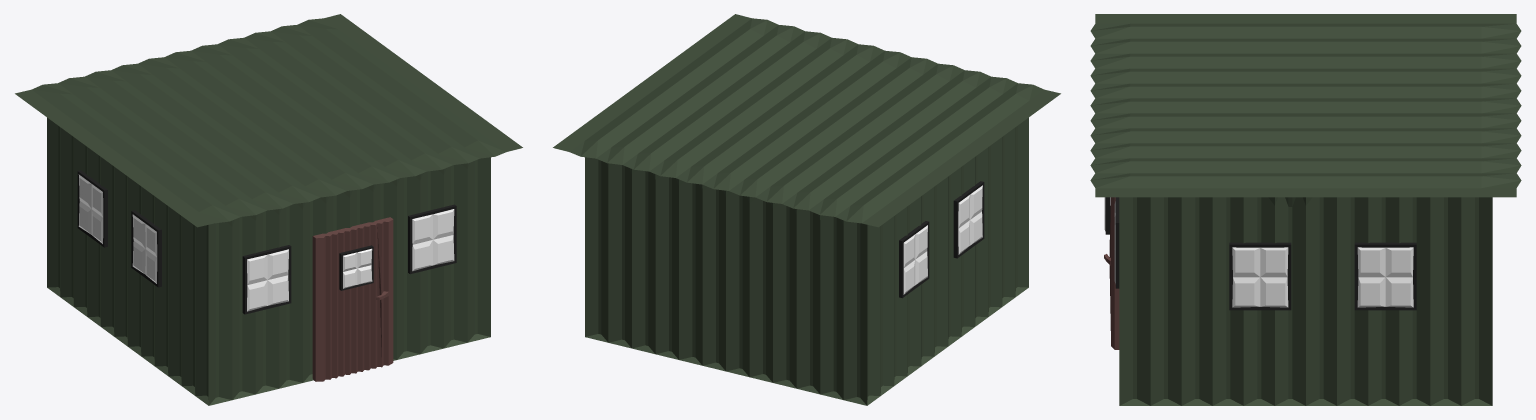
Rendered from TinShackGreen.fbx.
3 views of the same model, side by side, from view 1: azimuth 30°, elevation 25°; view 2: azimuth 150°, elevation 25°; view 3: azimuth 270°, elevation 25° (orthographic). The views are drawn at different scales.
Visible parts, largest first — view 1: Box001, Box002, Box009, Box004, Box005, Box007, Box003; view 2: Box001, Box005, Box007; view 3: Box001, Box006, Box008, Box002, Box004.
Part boxes in pixels (x1,y1,x2,y2): Box001: (15,14,522,405); Box002: (312,217,393,381); Box009: (242,245,291,314); Box004: (408,204,456,274); Box005: (131,210,161,287); Box007: (77,170,107,247); Box003: (339,245,373,290); Box001: (553,14,1060,405); Box005: (953,181,984,258); Box007: (899,221,929,298); Box001: (1090,14,1521,405); Box006: (1229,242,1291,310); Box008: (1354,242,1416,310); Box002: (1104,197,1119,349); Box004: (1114,197,1119,288).
Size of the model in its own units: 138 by 79.07 by 137.
